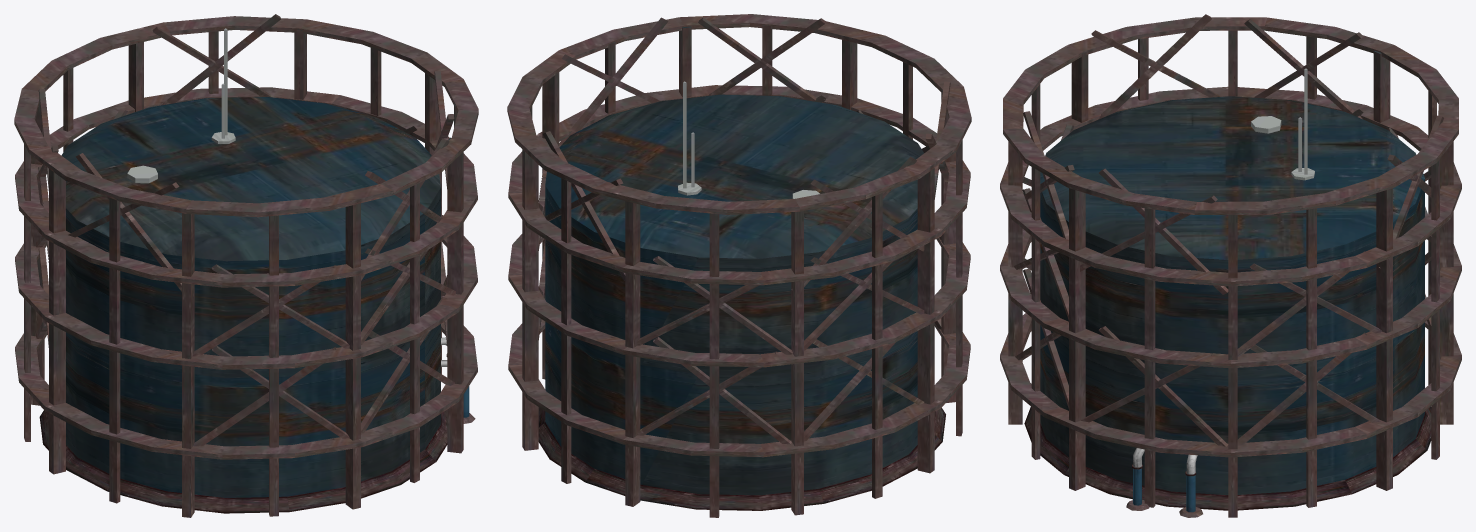
File: ind-tank-2.zfix-v14.lod0.glb
3 views of the same model, side by side, from view 1: azimuth 30°, elevation 25°; view 2: azimuth 150°, elevation 25°; view 3: azimuth 270°, elevation 25° (orthographic).
Parts seen in each view (by area): view 1: Industrial_Tank_2_Industrial_Walls_FLR_2_0; view 2: Industrial_Tank_2_Industrial_Walls_FLR_2_0; view 3: Industrial_Tank_2_Industrial_Walls_FLR_2_0.
Boxes of the visible parts, x1,y1,x2,y2 form: Industrial_Tank_2_Industrial_Walls_FLR_2_0: [14, 14, 478, 517]; Industrial_Tank_2_Industrial_Walls_FLR_2_0: [507, 14, 971, 517]; Industrial_Tank_2_Industrial_Walls_FLR_2_0: [1000, 14, 1461, 517].
Bounding box in the file's own units: 19.78 × 17.14 × 19.78.
1 material, 1 textured.
